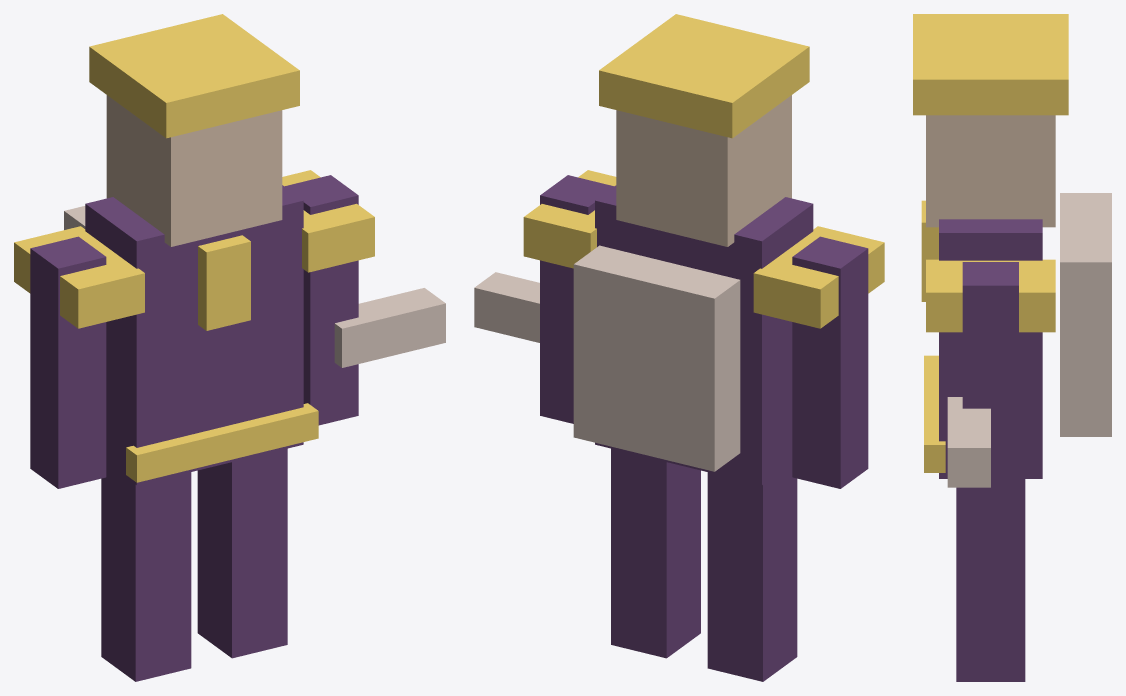
File: 04_mirek_runeclasp_marshal_at_ration.glb
3 views of the same model, side by side, from view 1: azimuth 30°, elevation 25°; view 2: azimuth 150°, elevation 25°; view 3: azimuth 270°, elevation 25° (orthographic).
Parts seen in each view (by area): view 1: Mirek Runeclasp, Marshal at Ration; view 2: Mirek Runeclasp, Marshal at Ration; view 3: Mirek Runeclasp, Marshal at Ration.
Boxes of the visible parts, box(x1,y1,x2,y2) form: Mirek Runeclasp, Marshal at Ration: box(14, 14, 445, 681); Mirek Runeclasp, Marshal at Ration: box(474, 14, 884, 681); Mirek Runeclasp, Marshal at Ration: box(913, 14, 1111, 681).
Bounding box in the file's own units: 0.9534 × 1.42 × 0.4279.
